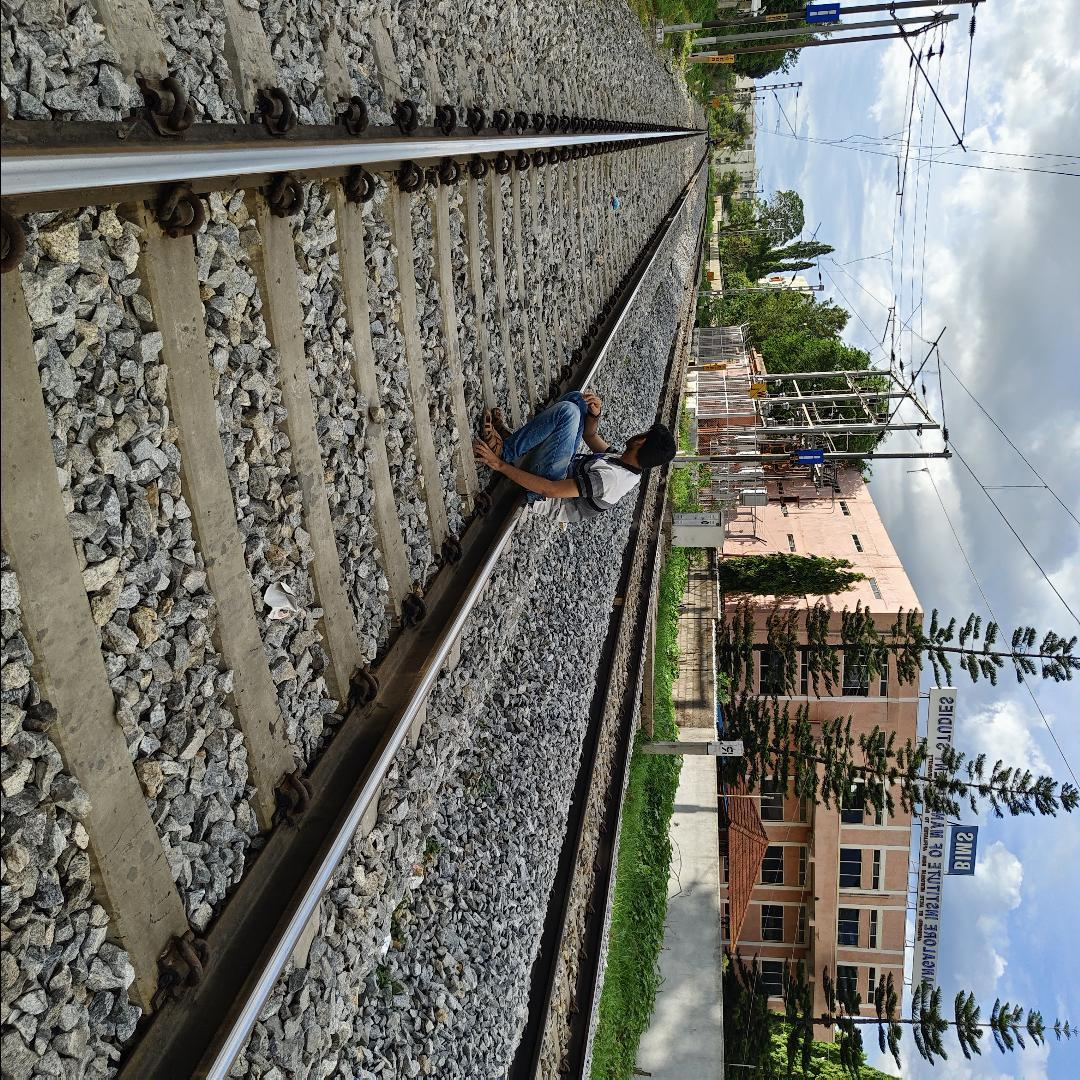sitting: (474, 386, 688, 524)
